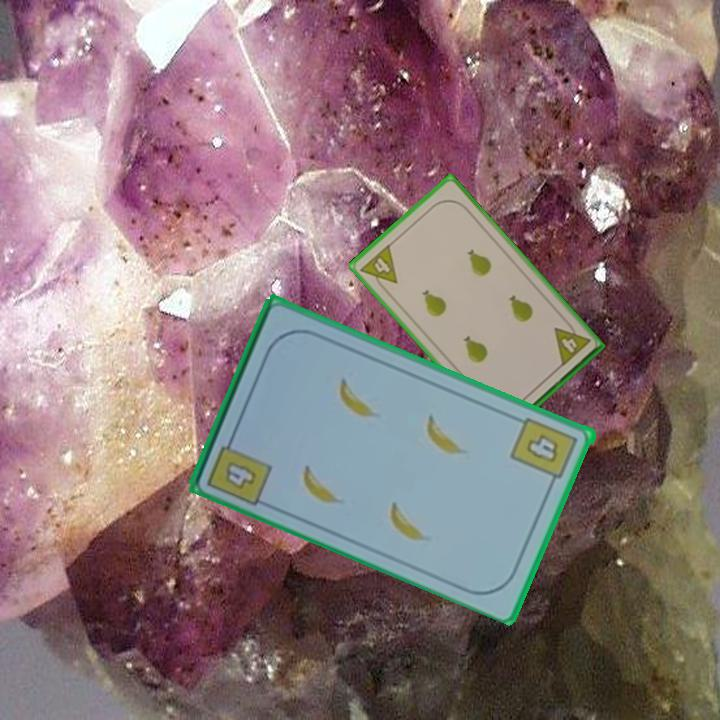4b: (508, 413, 582, 490), (203, 429, 275, 508)
4p: (357, 240, 400, 295), (550, 316, 593, 369)
